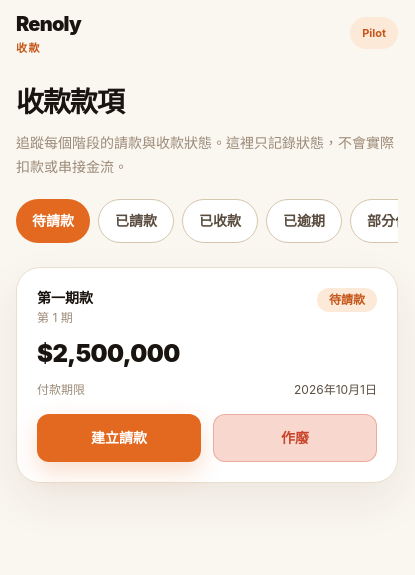
PaymentsView › surfaces an inline error when an action fails
This screenshot has width=415, height=575.
Expected: the text "第一期款" is shown, [37, 288, 93, 308]
What coordinates should you click on to do the following:
click the button "建立請款"
I would click on:
 (119, 438)
Its box is [37, 414, 201, 462].
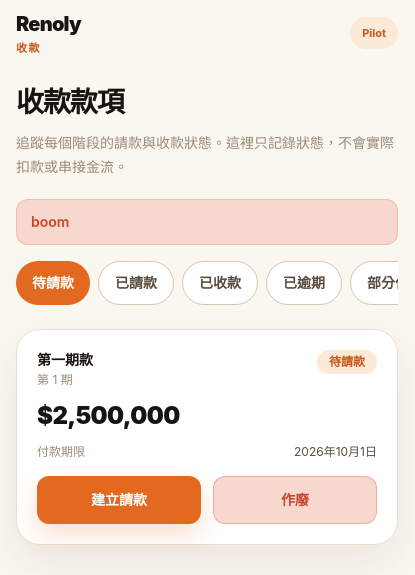
Expected: the text "boom" is shown, [16, 198, 398, 244]
